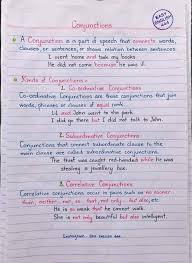text: (19, 34, 177, 48), (18, 91, 177, 102), (19, 140, 164, 152), (18, 189, 173, 200), (53, 211, 169, 224), (19, 148, 160, 158), (21, 197, 160, 207), (50, 115, 164, 127), (18, 100, 124, 112), (19, 45, 176, 53), (49, 155, 174, 165), (57, 130, 140, 142), (50, 108, 134, 119), (60, 83, 142, 94), (47, 60, 147, 69), (20, 75, 89, 86), (58, 180, 133, 190), (60, 164, 128, 175), (53, 205, 145, 213), (47, 53, 136, 61), (71, 18, 112, 33), (62, 232, 122, 241), (155, 12, 172, 27), (155, 11, 167, 19), (161, 19, 169, 28)
